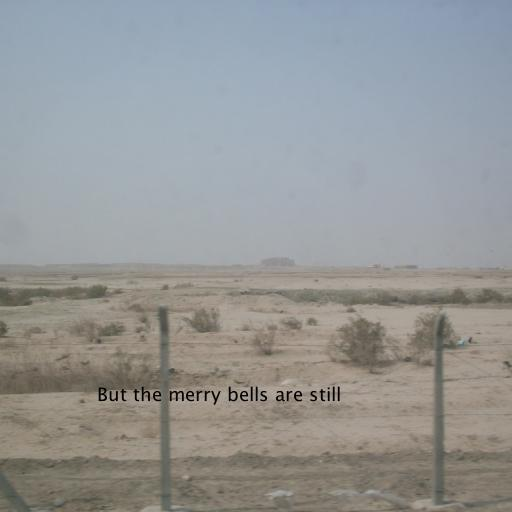Lucida Grande: (97, 386, 341, 405)
